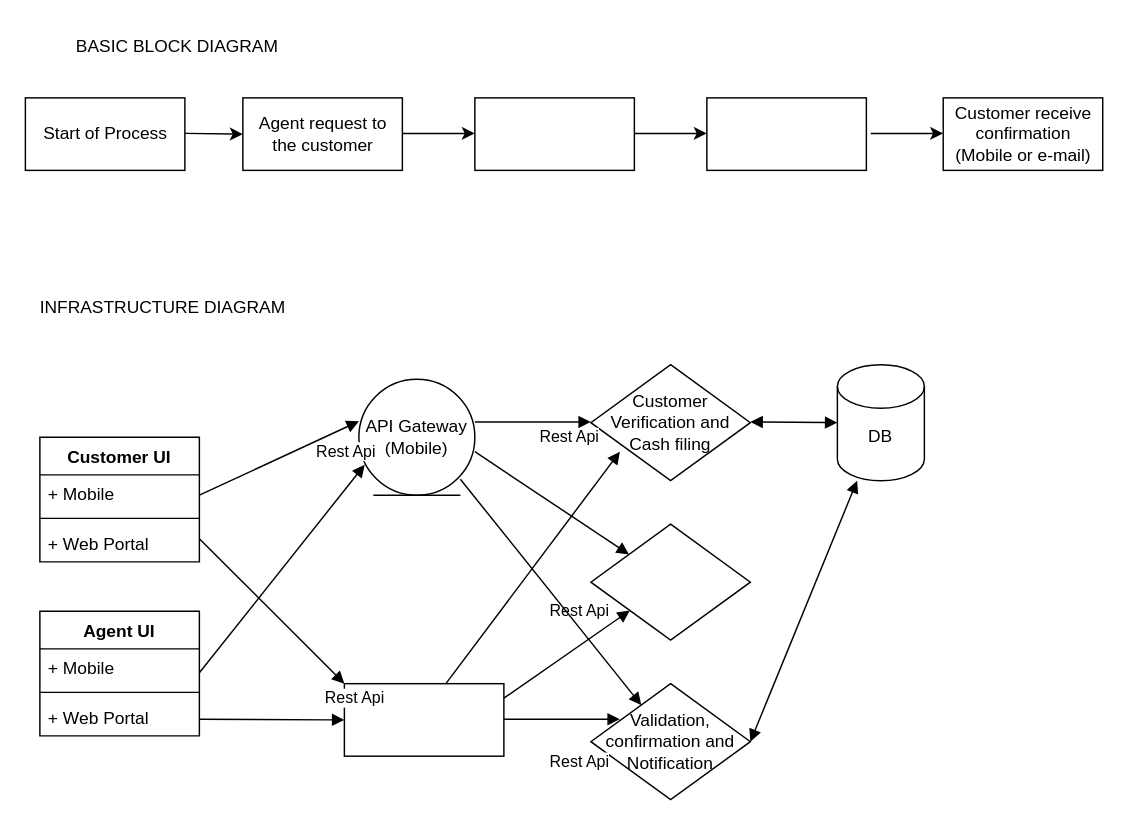
Some shapes in this 1128 by 825 pixel diagram are drawn without their labels. Here are the shapes that lost their labels. From the top down, the centre of each, then its label:
(553,133): Customer gives cash and details of transaction
(785,133): Agent files entry using mobile or web
(669,581): Account Services and Validation
(423,719): Web Application
